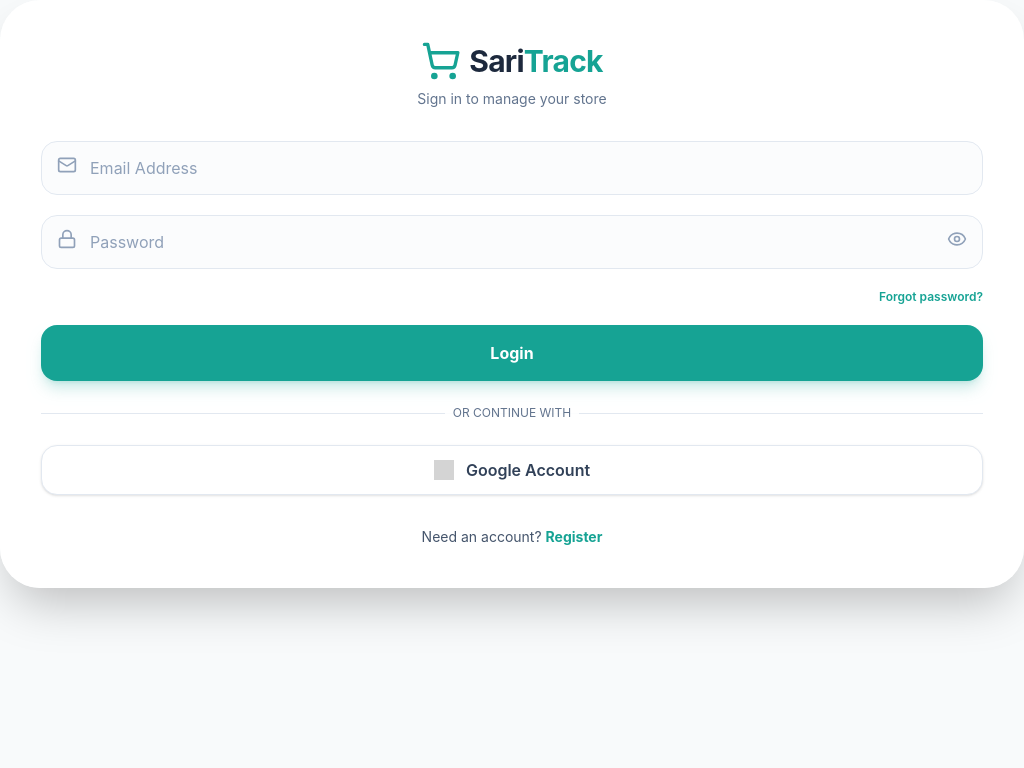
Login Component › opens Forgot Password modal and sends reset token
# Click forgot password button
Click the button "Forgot password?" at (931, 297), box [879,289,983,305]
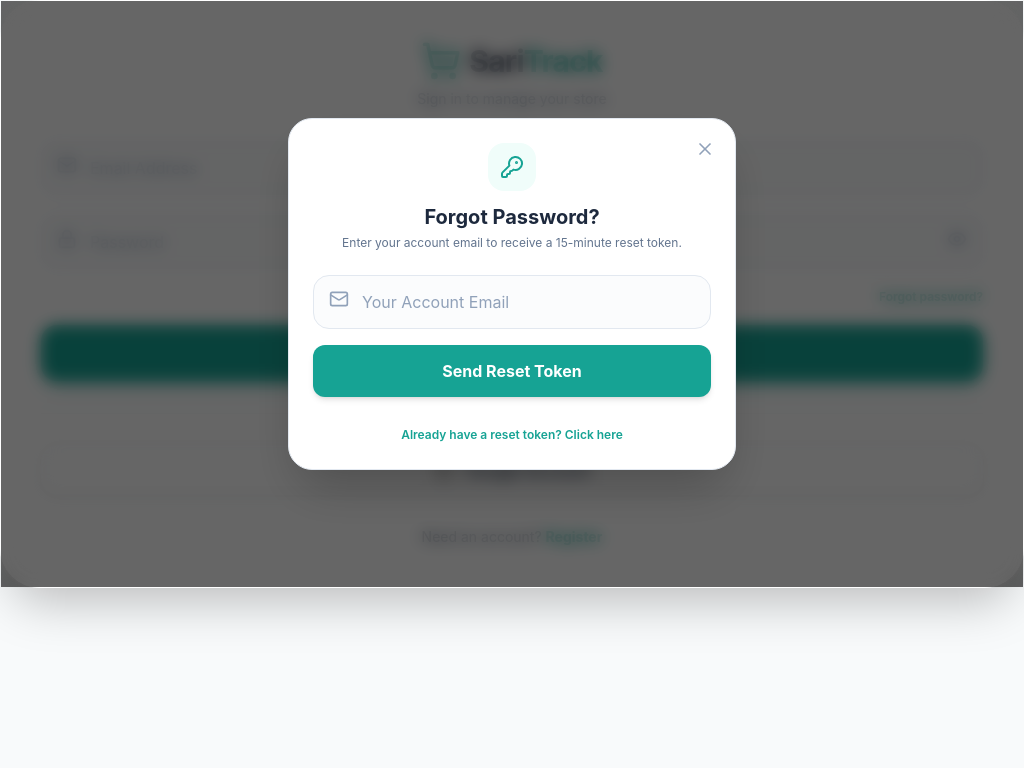
expect the text "Enter your account email to receive a 15-minute reset token." is shown: met, box [313,235,711,251]
Type "vendor@example.com" into the field with placeholder "Your Account Email" at (512, 302), box [313,275,711,329]
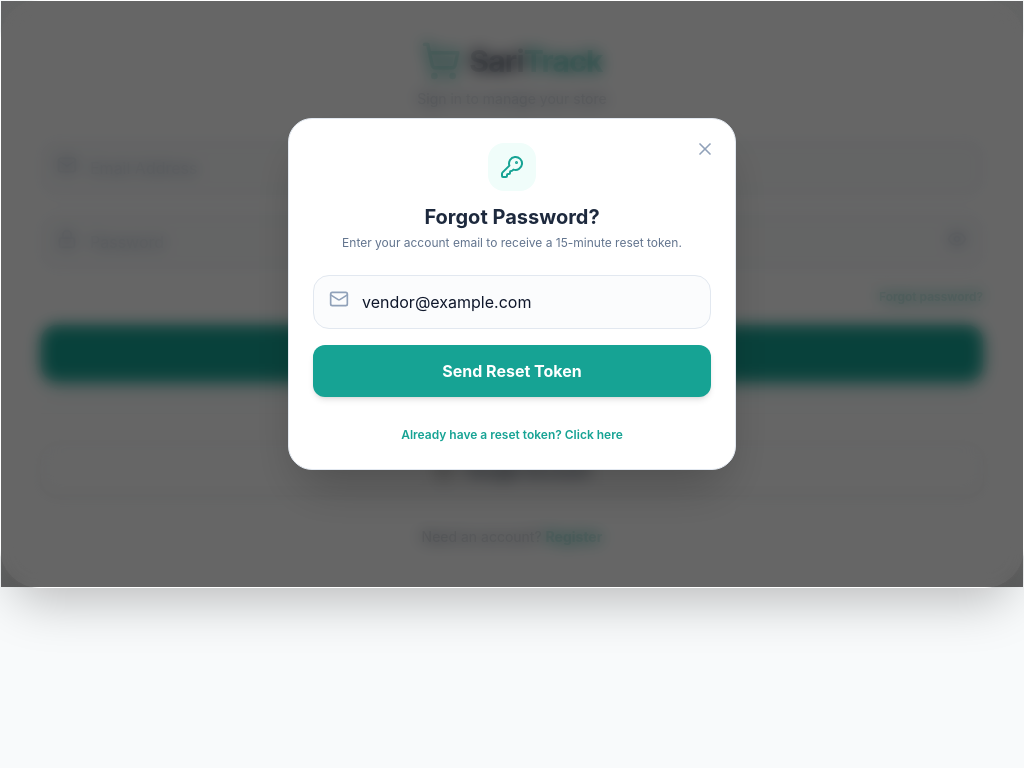
Click the button "Send Reset Token" at (512, 371), box [313,345,711,397]
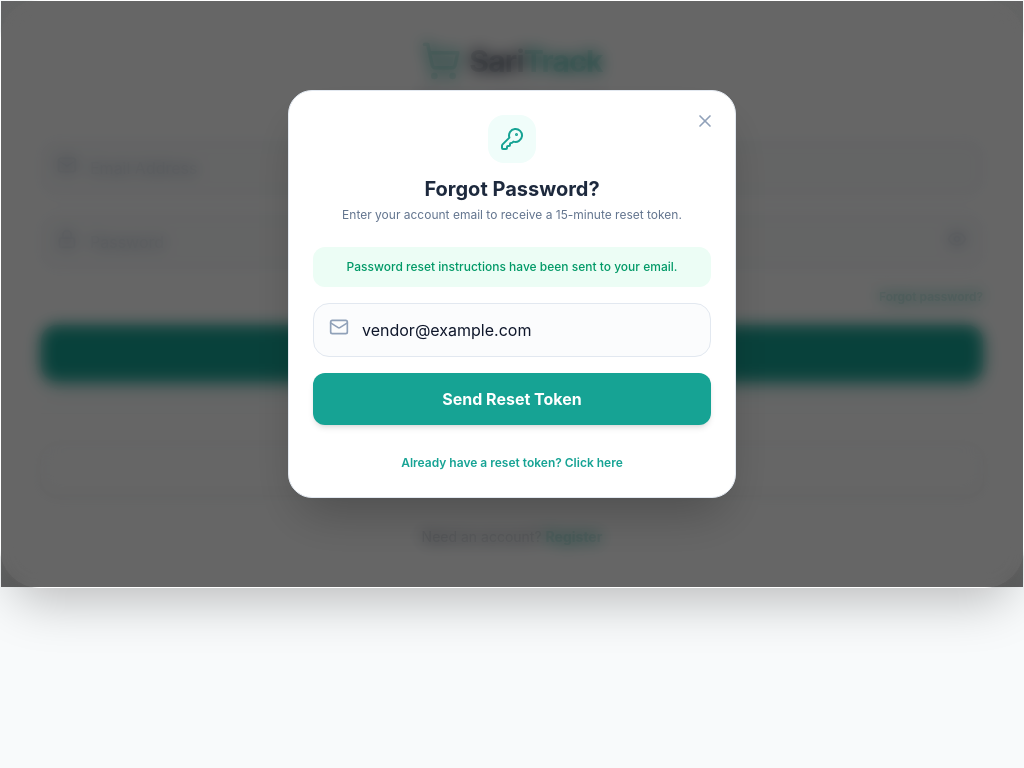
expect the text "Password reset instructions have been sent to your email." is shown: met, box [313,247,711,287]
